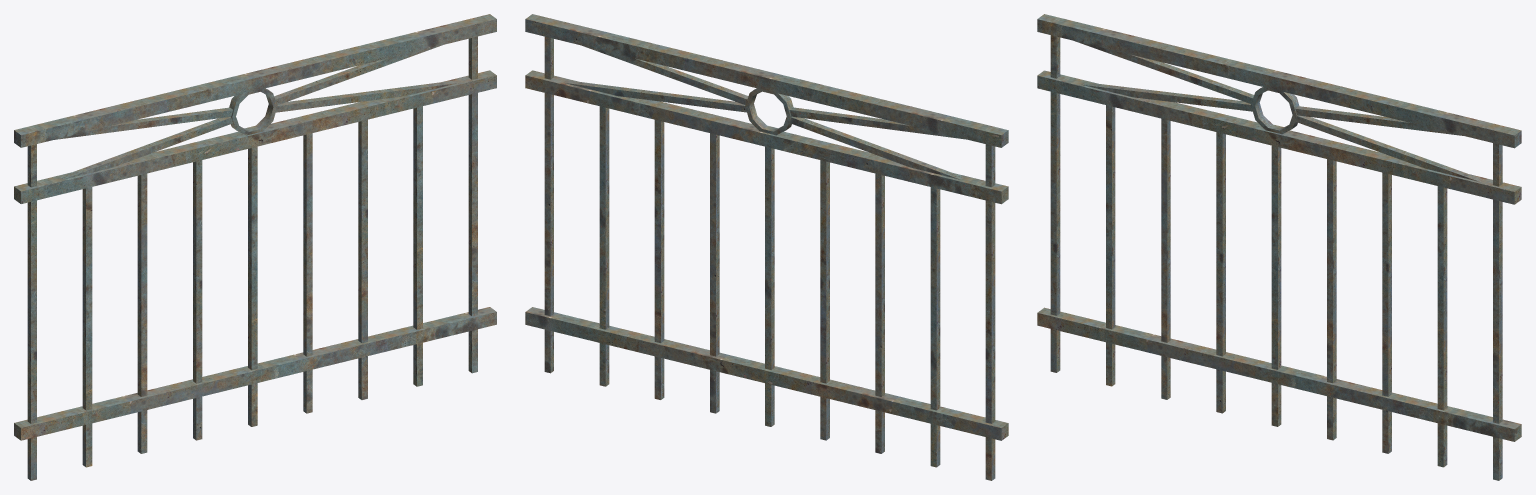
Rendered from fence02.FBX.
3 renders of one model, left to right at view 1: azimuth 30°, elevation 25°; view 2: azimuth 150°, elevation 25°; view 3: azimuth 330°, elevation 25°, orthographic.
Visible parts, largest first — view 1: metal_fence_small_cat_whiskers; view 2: metal_fence_small_cat_whiskers; view 3: metal_fence_small_cat_whiskers.
Part boxes in pixels (left/top/right/bottom): metal_fence_small_cat_whiskers: left=14, top=14, right=496, bottom=480; metal_fence_small_cat_whiskers: left=525, top=14, right=1008, bottom=480; metal_fence_small_cat_whiskers: left=1037, top=14, right=1521, bottom=480.
Bounding box in the file's own units: 247 × 173 × 6.31.
